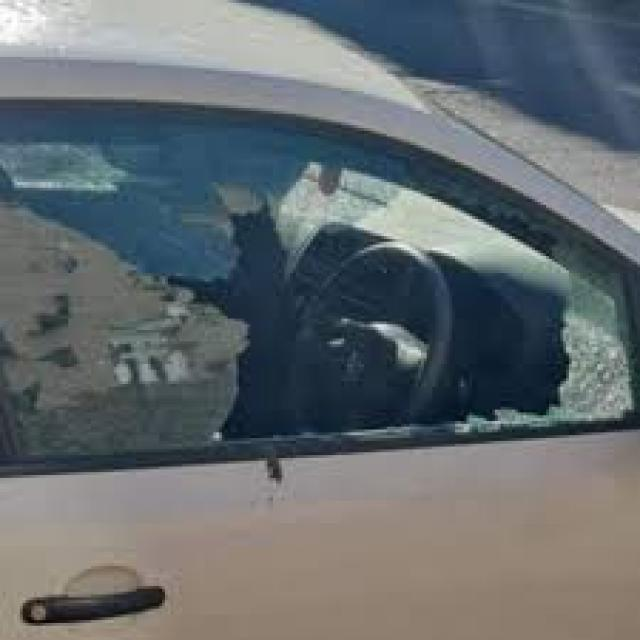damaged-window: (0, 87, 640, 463)
